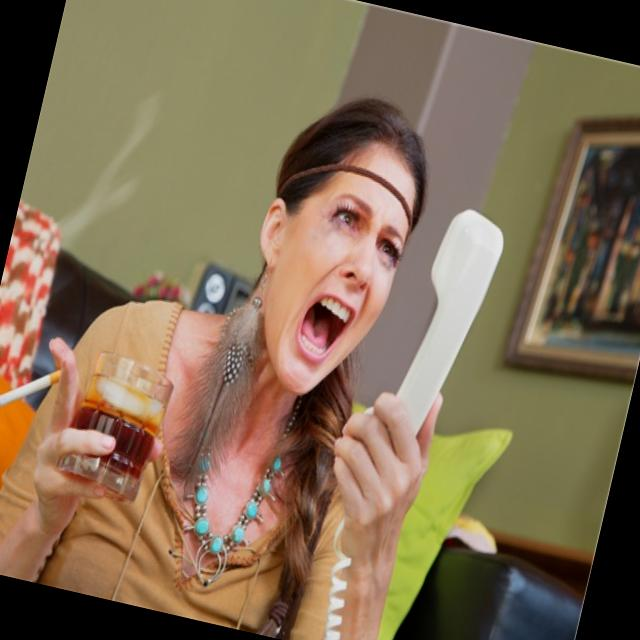smoke: (0, 348, 67, 432)
